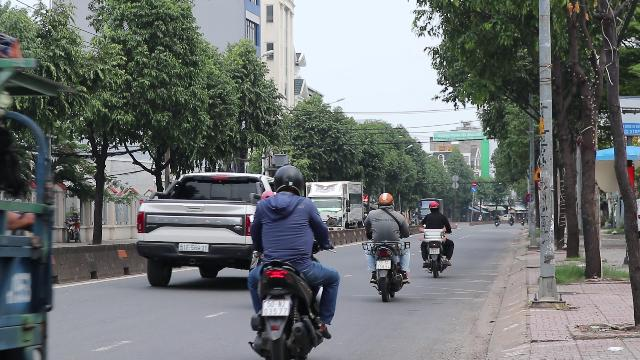helmet: (270, 164, 306, 198), (378, 192, 394, 208)
licenseplate: (262, 300, 290, 316), (376, 260, 390, 268)
motorcyclist: (242, 161, 341, 359), (362, 191, 412, 299)
